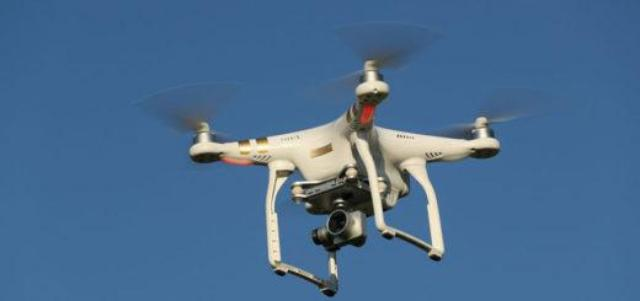drone: (124, 2, 572, 301)
